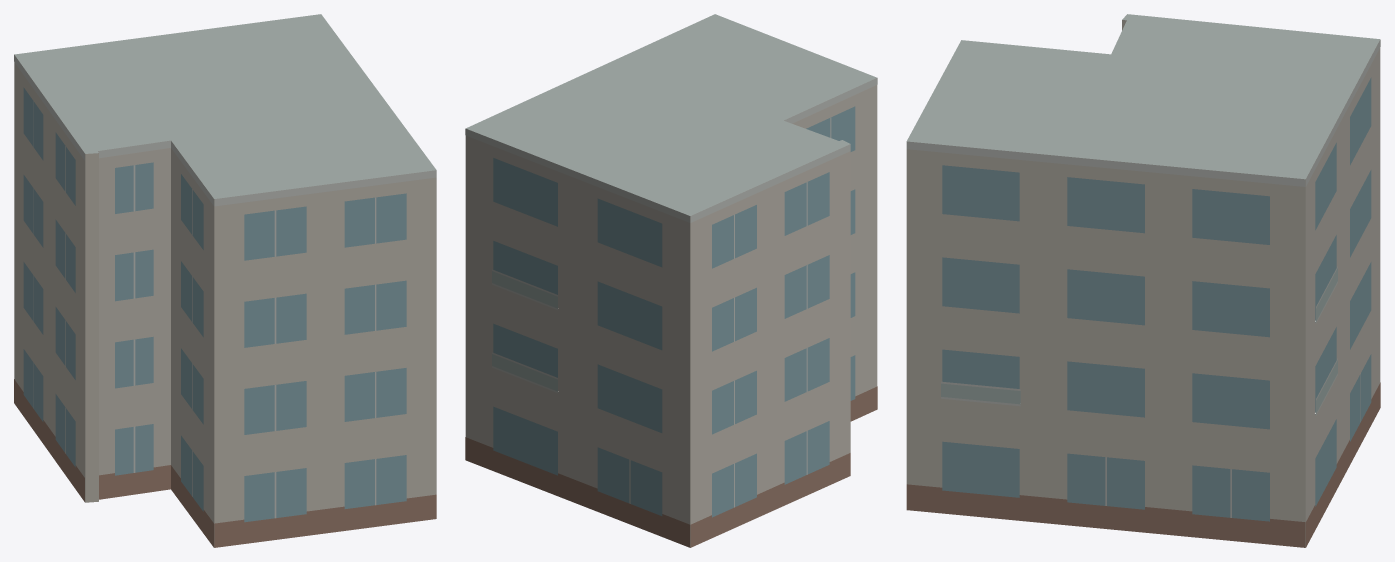
File: survey-upis-32872794.glb
The picture shows the model from 3 angles, left to right: view 1: azimuth 30°, elevation 25°; view 2: azimuth 150°, elevation 25°; view 3: azimuth 270°, elevation 25°; orthographic projection. The views are drawn at different scales.
Visible parts, largest first — view 1: survey-upis-32872794.tmp; view 2: survey-upis-32872794.tmp; view 3: survey-upis-32872794.tmp.
Part boxes in pixels (<box>): survey-upis-32872794.tmp: <box>14,14,436,547</box>; survey-upis-32872794.tmp: <box>465,14,877,547</box>; survey-upis-32872794.tmp: <box>906,14,1380,547</box>.
Size of the model in its own units: 11.16 by 11.6 by 13.53.
